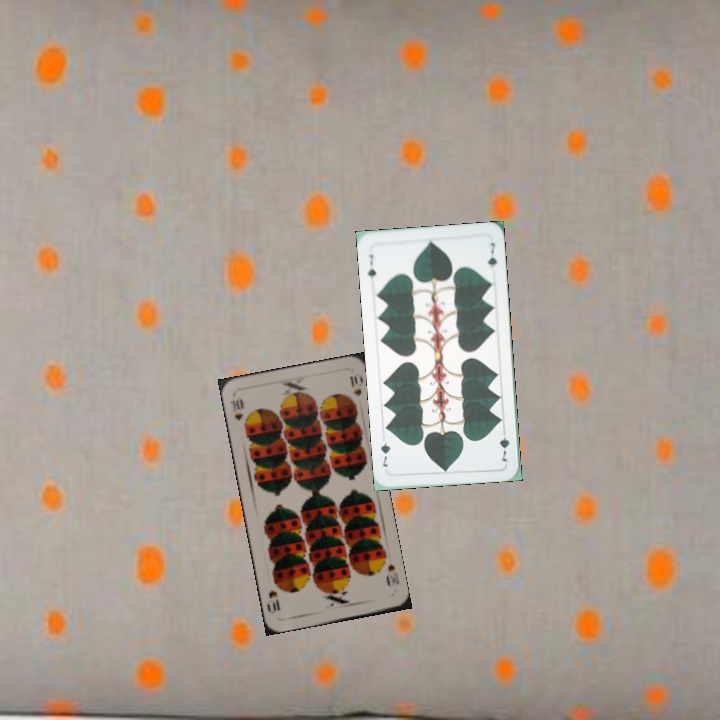G7: (496, 424, 512, 465), (364, 250, 379, 280)
S10: (226, 395, 246, 424), (382, 559, 402, 588)
